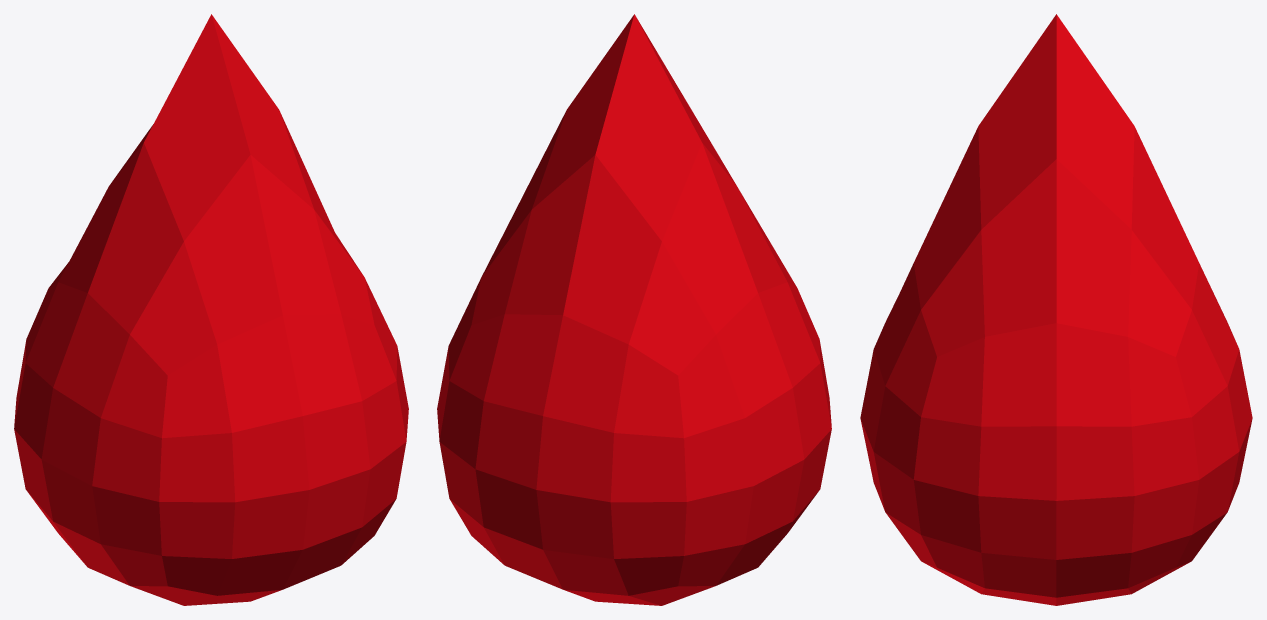
Rendered from BloodCrystal.fbx.
3 renders of one model, left to right at view 1: azimuth 30°, elevation 25°; view 2: azimuth 150°, elevation 25°; view 3: azimuth 270°, elevation 25°, orthographic.
Visible parts, largest first — view 1: Cube.001; view 2: Cube.001; view 3: Cube.001.
Boxes of the visible parts, box(x1,y1,x2,y2) form: Cube.001: box(14, 14, 408, 605); Cube.001: box(437, 14, 831, 605); Cube.001: box(860, 14, 1252, 605).
Bounding box in the file's own units: 32.58 × 52.33 × 32.58.
